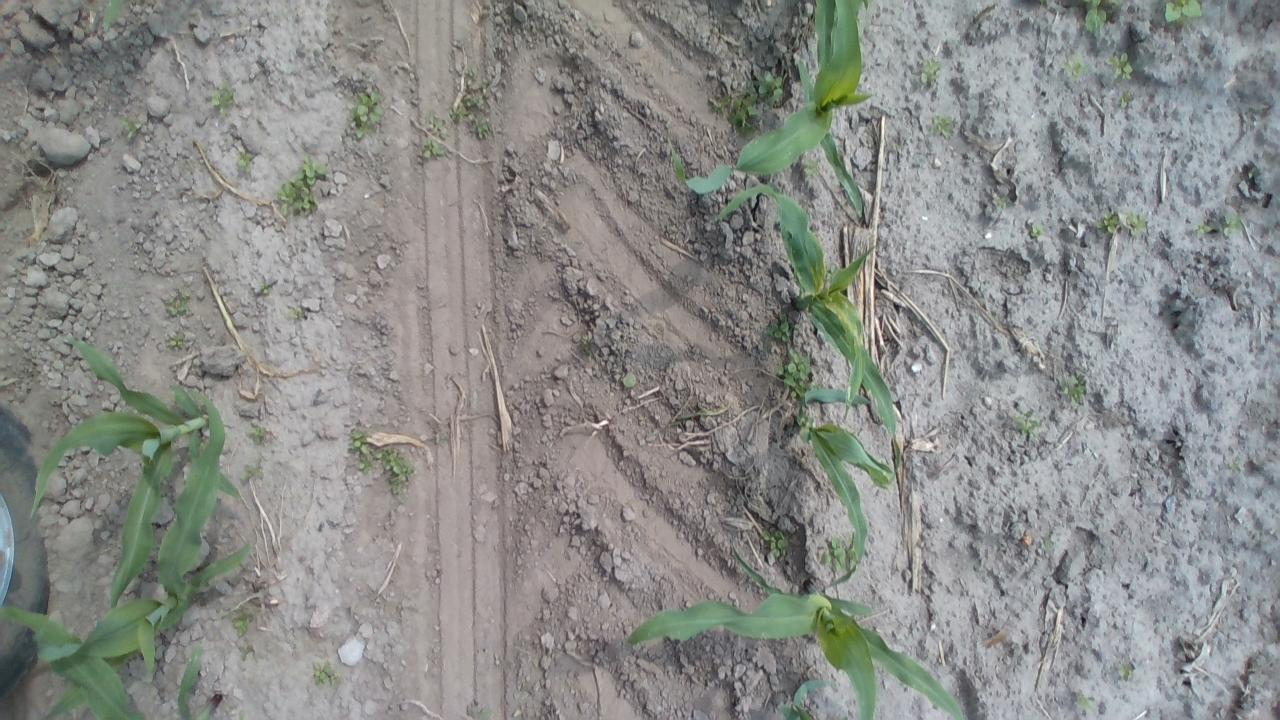Maize: (25, 391, 258, 688), (620, 534, 974, 720), (27, 323, 244, 608), (706, 188, 904, 437), (664, 0, 884, 221), (0, 596, 234, 720), (786, 376, 894, 578), (763, 666, 836, 720), (96, 1, 132, 40)
Weeds: (346, 428, 420, 498), (446, 60, 499, 140), (720, 68, 786, 131), (274, 153, 331, 218), (342, 88, 387, 146), (227, 609, 263, 669), (415, 112, 450, 168), (1093, 208, 1156, 238), (775, 344, 810, 394), (820, 537, 861, 579), (1049, 369, 1087, 413), (758, 313, 805, 346), (756, 528, 792, 566), (116, 110, 150, 150), (1159, 0, 1207, 28), (204, 74, 235, 116), (1061, 46, 1093, 84), (916, 52, 947, 90), (926, 108, 962, 140), (1082, 0, 1110, 40), (160, 285, 193, 318), (1104, 52, 1138, 82), (310, 657, 338, 690), (1012, 412, 1041, 442), (159, 328, 195, 352), (800, 156, 822, 192), (242, 453, 264, 488), (463, 699, 499, 720), (247, 416, 270, 448), (1112, 658, 1137, 686), (1034, 531, 1058, 560), (235, 147, 258, 176), (1070, 690, 1096, 714), (792, 407, 812, 438), (1224, 452, 1246, 479), (253, 273, 276, 297), (1220, 212, 1242, 236), (618, 368, 640, 392), (288, 301, 310, 324), (1118, 86, 1137, 109), (1026, 219, 1044, 242), (988, 195, 1008, 215), (1192, 219, 1212, 239), (579, 330, 591, 350)
